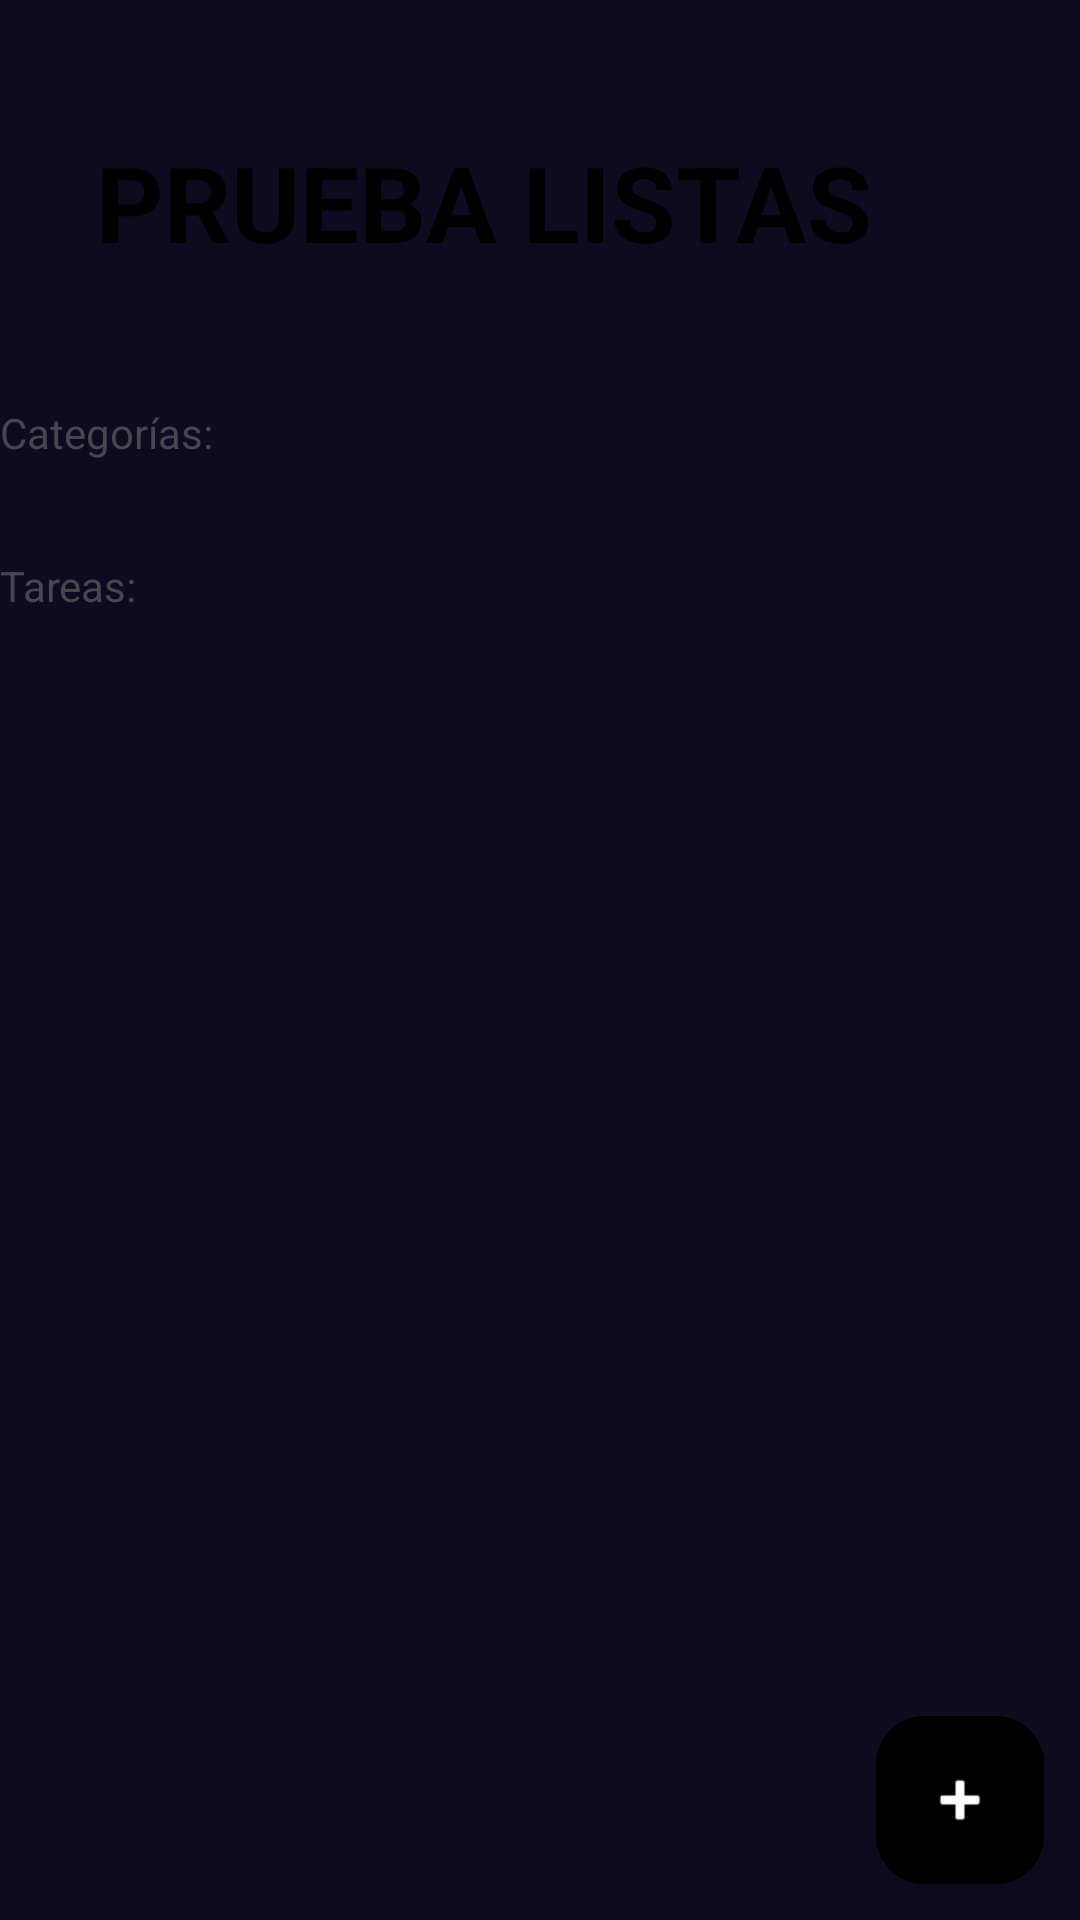

Point at icon controls on the screen. Image size 1080w x 1920h, points as [x,y].
add: [960,1800]
